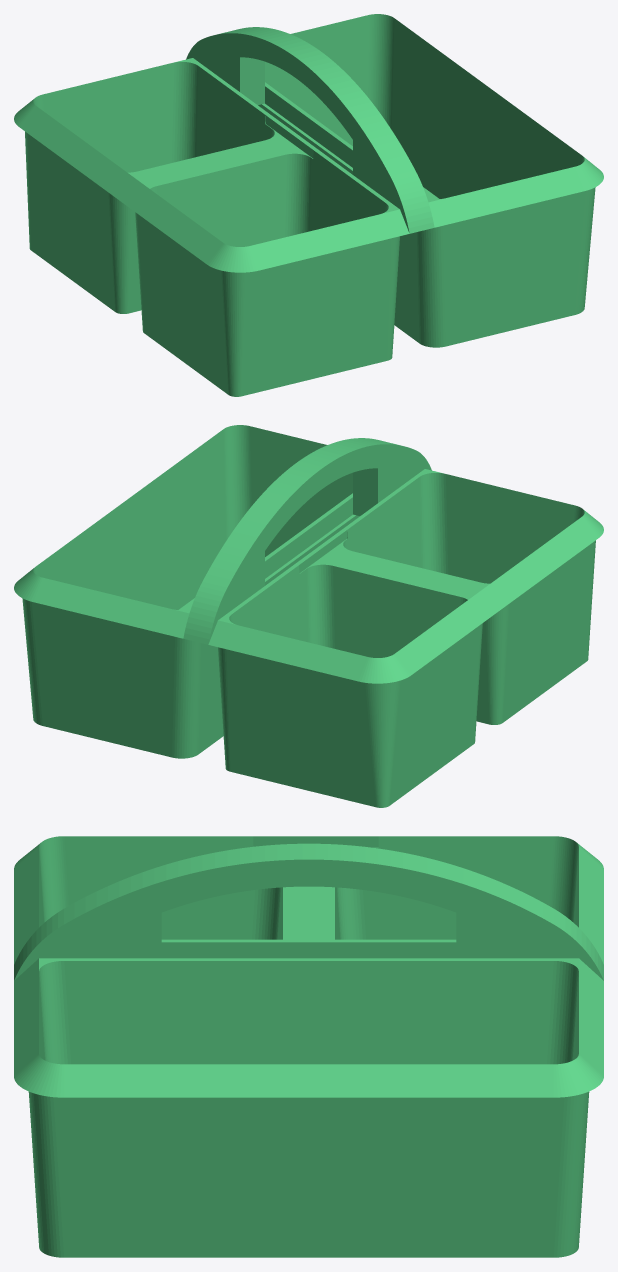
The model's file is Romanoff_Small_Utility_Caddy_cof_green.dae.
3 renders of one model, top to bottom at view 1: azimuth 30°, elevation 25°; view 2: azimuth 150°, elevation 25°; view 3: azimuth 270°, elevation 25°, orthographic. The views are drawn at different scales.
Visible parts, largest first — view 1: _c62c69ebbda3019535ef0d7; view 2: _c62c69ebbda3019535ef0d7; view 3: _c62c69ebbda3019535ef0d7.
Part boxes in pixels (left/top/right/bottom): _c62c69ebbda3019535ef0d7: left=14, top=14, right=603, bottom=396; _c62c69ebbda3019535ef0d7: left=14, top=425, right=603, bottom=807; _c62c69ebbda3019535ef0d7: left=14, top=836, right=603, bottom=1257.
Bounding box in the file's own units: 0.235 × 0.235 × 0.1283.
